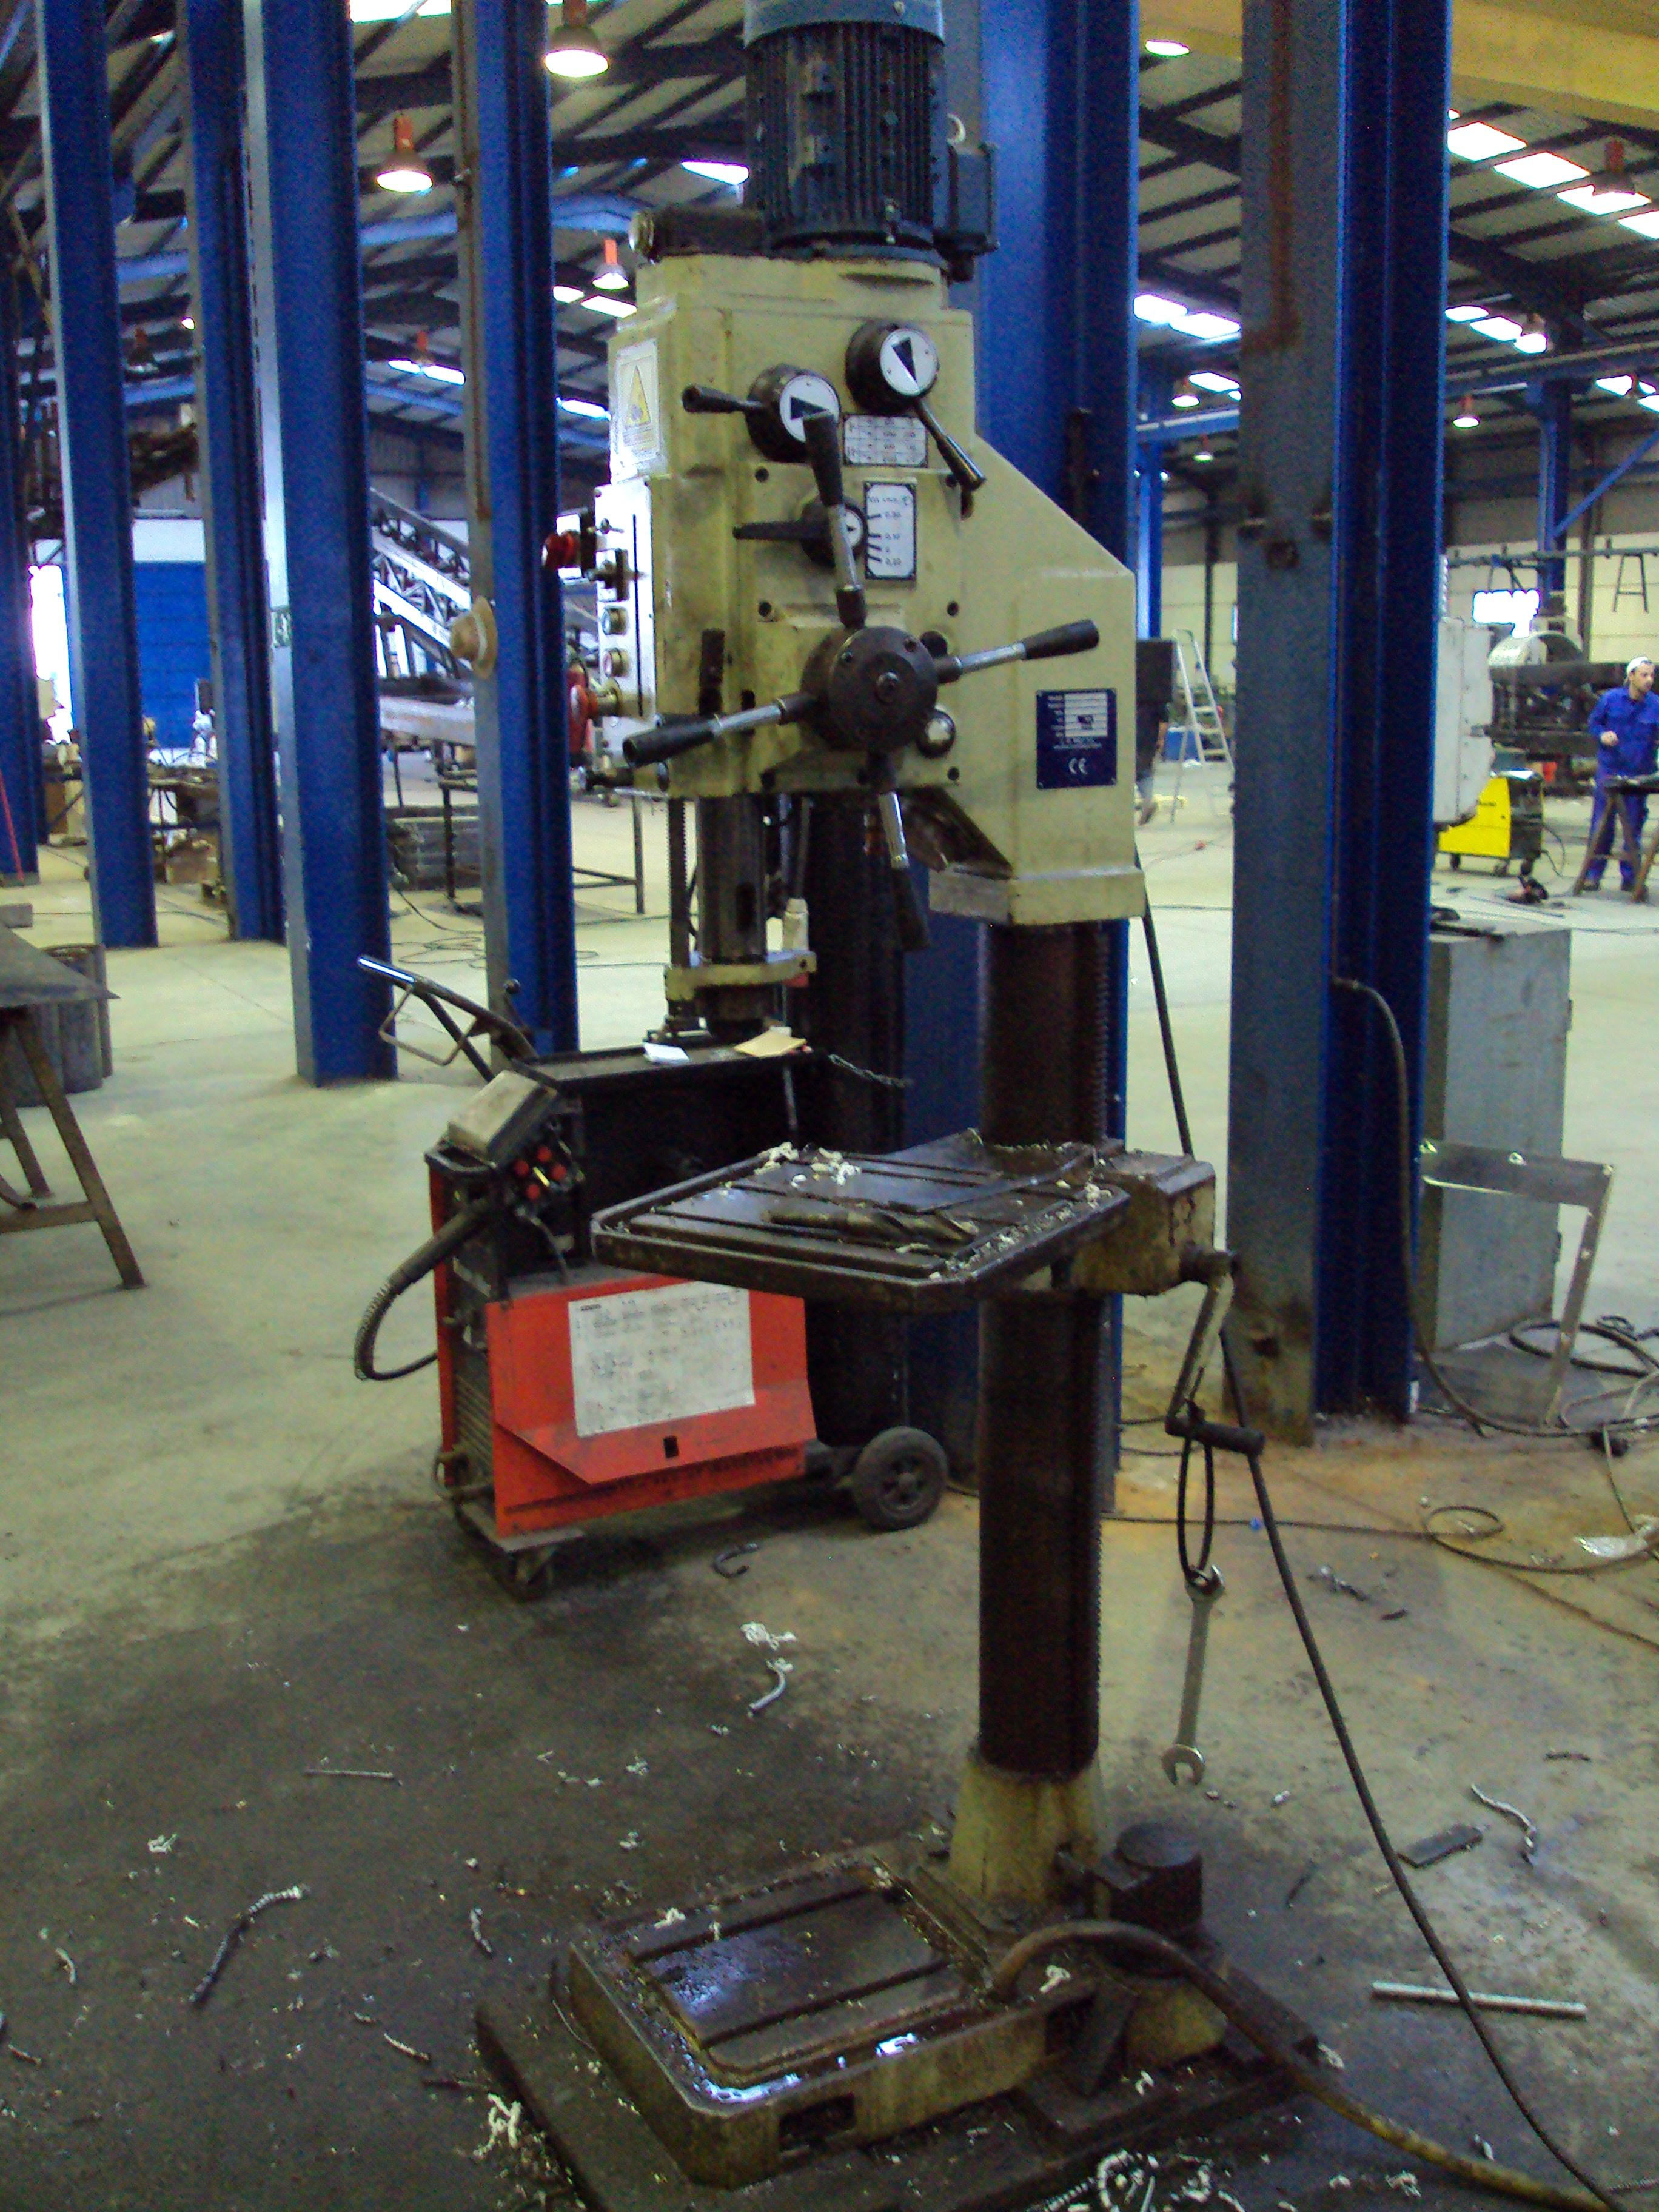falta_resguardo: (665, 778, 791, 1047)
mandos_inseguros: (570, 495, 671, 765)
